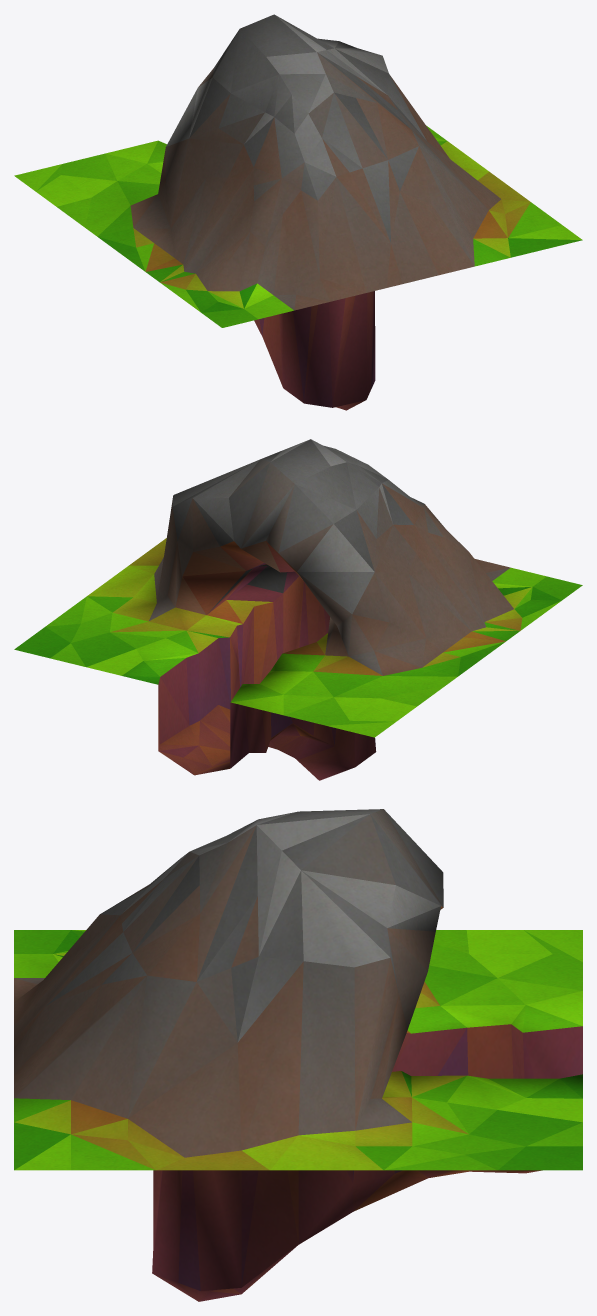
File: Terrain-part-04.fbx
The picture shows the model from 3 angles, top to bottom: view 1: azimuth 30°, elevation 25°; view 2: azimuth 150°, elevation 25°; view 3: azimuth 270°, elevation 25°; orthographic projection. The views are drawn at different scales.
Parts seen in each view (by area): view 1: Terrain-part-04; view 2: Terrain-part-04; view 3: Terrain-part-04.
Part boxes in pixels (x1=…): Terrain-part-04: x1=14, y1=14, x2=582, y2=410; Terrain-part-04: x1=14, y1=439, x2=582, y2=780; Terrain-part-04: x1=14, y1=809, x2=582, y2=1301.
Size of the model in its own units: 6 by 5.6 by 6.
